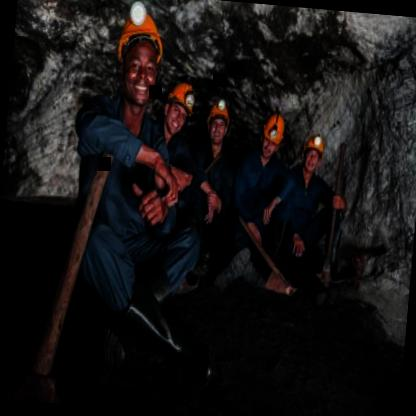helmet: (108, 5, 171, 116), (160, 77, 198, 136), (204, 95, 232, 149), (259, 108, 288, 158), (301, 132, 326, 174)
